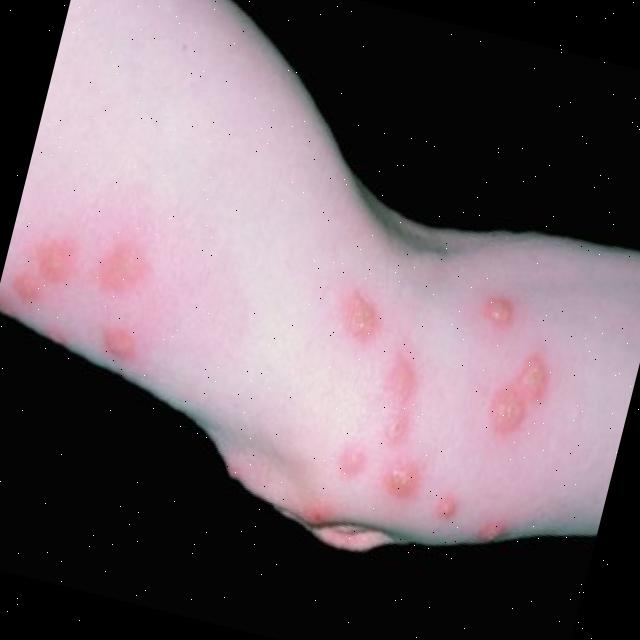kan emici bocekler: (79, 221, 168, 319), (481, 342, 556, 444), (365, 344, 434, 450), (335, 279, 393, 349), (24, 228, 87, 292), (374, 446, 426, 510), (96, 315, 146, 365), (331, 433, 376, 484), (476, 283, 520, 334), (429, 479, 465, 526)
